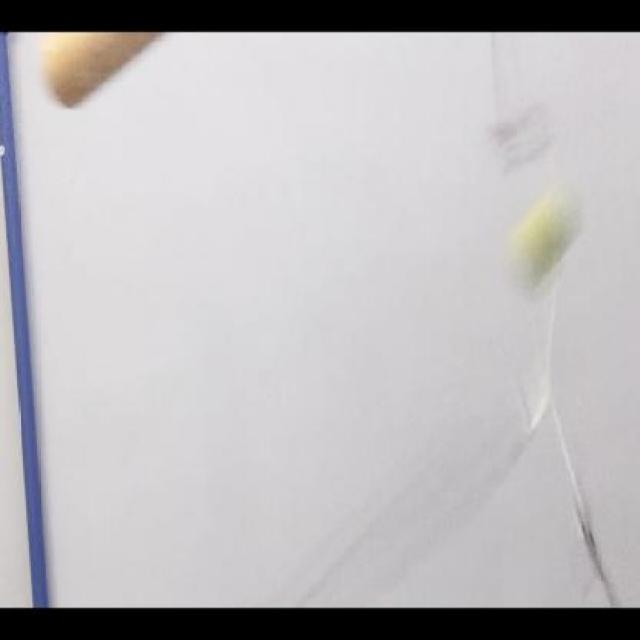baseball: (511, 182, 589, 286)
